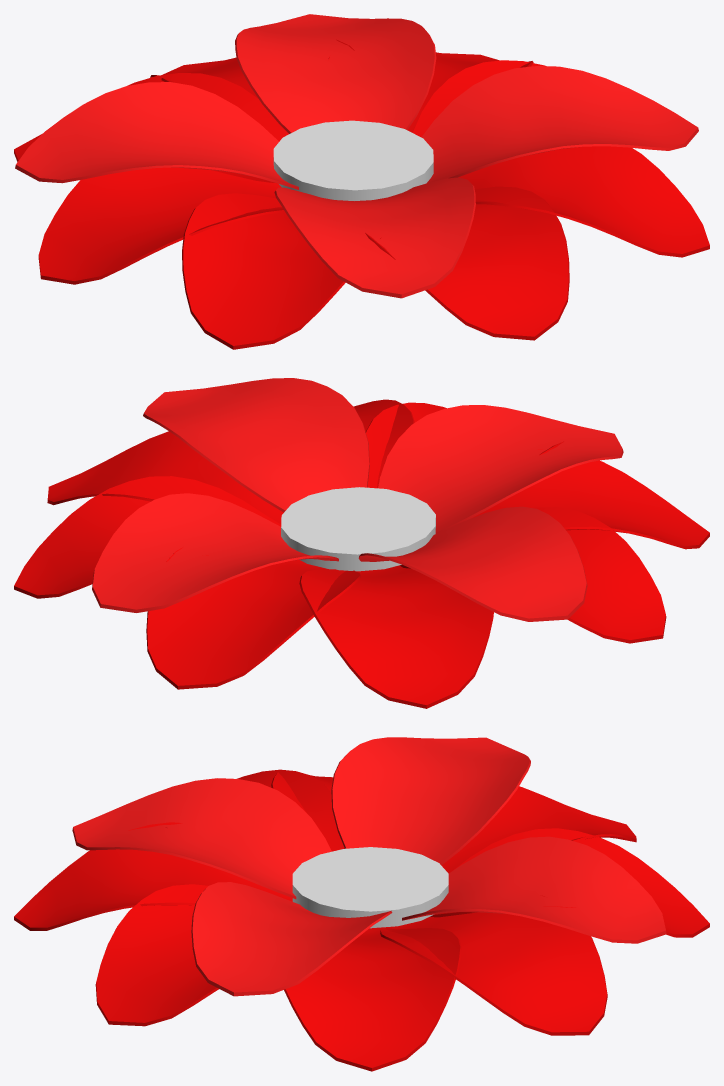
Rendered from Blooming_Animation.FBX.
The picture shows the model from 3 angles, top to bottom: view 1: azimuth 30°, elevation 25°; view 2: azimuth 150°, elevation 25°; view 3: azimuth 270°, elevation 25°; orthographic projection. The views are drawn at different scales.
Visible parts, largest first — view 1: Sphere001, Sphere003, Sphere004, Sphere005, Sphere002, Sphere012, Sphere009, Sphere006, Cylinder001, Sphere008, Sphere010, Sphere007 (+1 smaller); view 2: Sphere003, Sphere008, Sphere002, Sphere001, Sphere011, Sphere004, Cylinder001, Sphere007, Sphere012, Sphere005, Sphere010, Sphere009 (+1 smaller); view 3: Sphere004, Sphere002, Sphere010, Sphere007, Sphere001, Sphere003, Sphere006, Cylinder001, Sphere009, Sphere008, Sphere011, Sphere005 (+1 smaller).
Part boxes in pixels (x1,y1,x2,y2): Sphere001: (235,14,436,133); Sphere003: (421,66,698,183); Sphere004: (15,82,298,189); Sphere005: (182,193,381,349); Sphere002: (274,177,475,298); Sphere012: (38,167,284,284); Sphere009: (365,186,569,340); Sphere006: (458,146,709,257); Cylinder001: (273,120,433,200); Sphere008: (14,73,288,182); Sphere010: (413,60,546,137); Sphere007: (328,52,533,132); Sphere003: (143,378,369,512); Sphere008: (299,565,493,708); Sphere002: (378,405,623,533); Sphere001: (92,493,338,612); Sphere011: (146,547,360,689); Sphere004: (358,506,587,621); Cylinder001: (281,487,435,571); Sphere007: (14,476,281,598); Sphere012: (400,507,666,643); Sphere005: (471,449,709,549); Sphere010: (47,431,283,524); Sphere009: (365,402,563,488); Sphere004: (331,737,530,865); Sphere002: (72,778,331,899); Sphere010: (284,927,461,1071); Sphere007: (380,895,607,1035); Sphere001: (402,836,666,943); Sphere003: (191,882,392,996); Sphere006: (95,884,218,1026); Cylinder001: (292,847,448,928); Sphere009: (14,822,292,930); Sphere008: (441,786,636,873); Sphere011: (430,828,709,937); Sphere005: (165,769,344,851).
Bounding box in the file's own units: 189 × 26.17 × 189.
